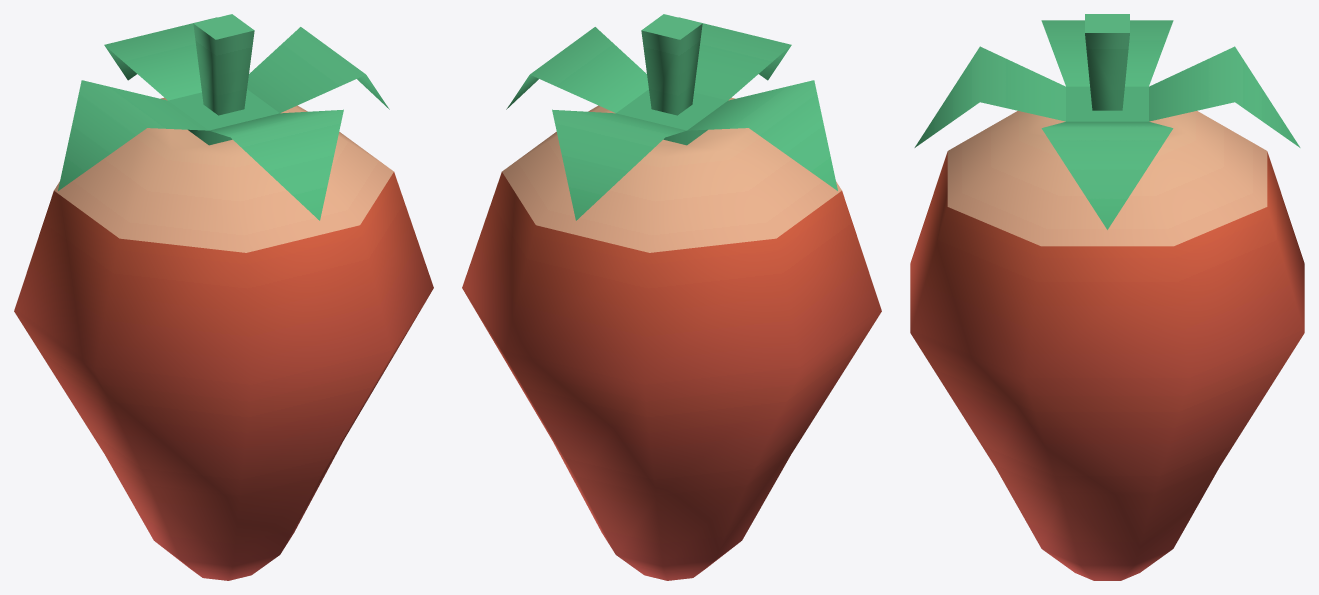
Rendered from strawberry.fb71eb94a9.glb.
3 views of the same model, side by side, from view 1: azimuth 30°, elevation 25°; view 2: azimuth 150°, elevation 25°; view 3: azimuth 270°, elevation 25° (orthographic).
Parts seen in each view (by area): view 1: strawberry; view 2: strawberry; view 3: strawberry.
Boxes of the visible parts, box(x1,y1,x2,y2) form: strawberry: box(14, 14, 433, 580); strawberry: box(462, 14, 881, 580); strawberry: box(910, 14, 1304, 580).
Size of the model in its own units: 0.1197 by 0.182 by 0.1197.
Materials: 1 (1 with a texture image).
